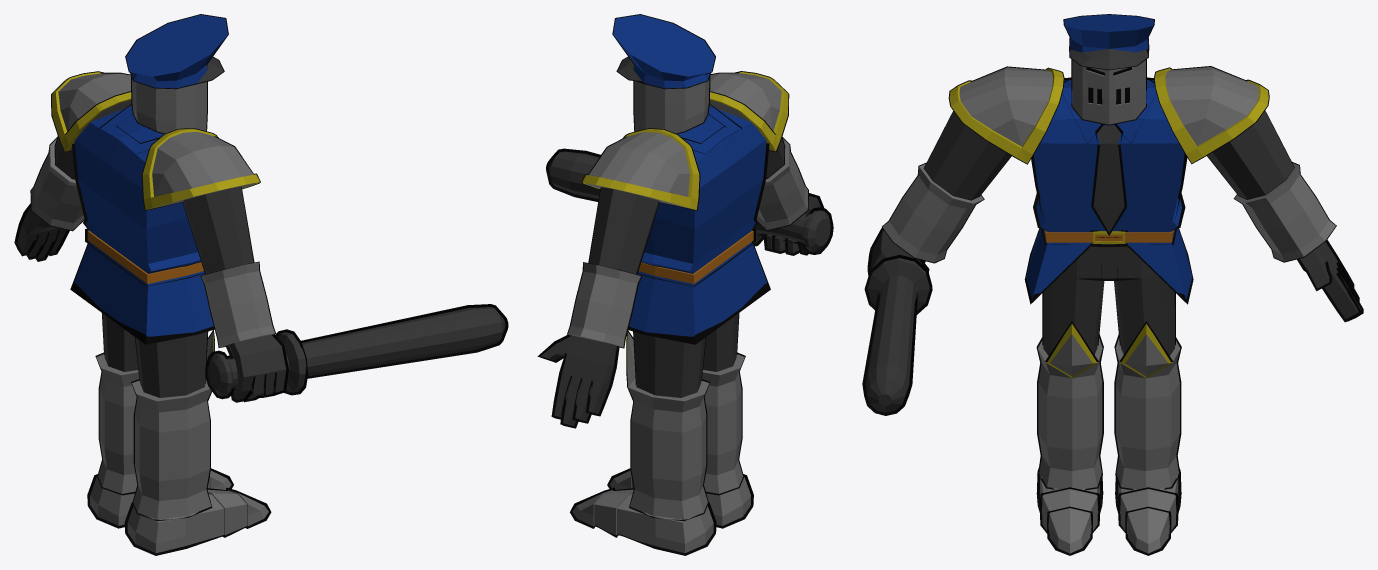
File: mid enemy.fbx
3 renders of one model, left to right at view 1: azimuth 30°, elevation 25°; view 2: azimuth 150°, elevation 25°; view 3: azimuth 270°, elevation 25°, orthographic. The views are drawn at different scales.
Visible parts, largest first — view 1: Cube.008, Cube.002, Cube.003, Cylinder.001, Cube, Cube.007, Cube.004, Cube.005; view 2: Cube.008, Cube.002, Cube.003, Cube, Cube.007, Cube.005, Cylinder.001, Cube.004; view 3: Cube.008, Cube.003, Cube.002, Cube, Cylinder.001, Cube.007, Cube.005, Cube.004.
Part boxes in pixels (left/top/right/bottom): Cube.008: left=30, top=71, right=275, bottom=347; Cube.002: left=70, top=104, right=214, bottom=344; Cube.003: left=95, top=313, right=214, bottom=521; Cylinder.001: left=205, top=304, right=508, bottom=399; Cube: left=125, top=14, right=228, bottom=133; Cube.007: left=87, top=468, right=271, bottom=555; Cube.004: left=225, top=334, right=288, bottom=402; Cube.005: left=14, top=203, right=69, bottom=261; Cube.008: left=567, top=71, right=808, bottom=348; Cube.002: left=628, top=104, right=770, bottom=344; Cube.003: left=626, top=313, right=745, bottom=521; Cube: left=612, top=14, right=715, bottom=133; Cube.007: left=570, top=468, right=753, bottom=555; Cube.005: left=537, top=334, right=619, bottom=428; Cylinder.001: left=546, top=148, right=833, bottom=254; Cube.004: left=764, top=193, right=823, bottom=255; Cube.008: left=882, top=66, right=1336, bottom=263; Cube.003: left=1036, top=242, right=1181, bottom=490; Cube.002: left=1024, top=77, right=1193, bottom=304; Cube: left=1063, top=14, right=1154, bottom=125; Cylinder.001: left=862, top=254, right=932, bottom=415; Cube.007: left=1036, top=467, right=1181, bottom=555; Cube.005: left=1297, top=240, right=1363, bottom=322; Cube.004: left=867, top=228, right=929, bottom=275.
Bounding box in the file's own units: 332 × 526 × 467.
